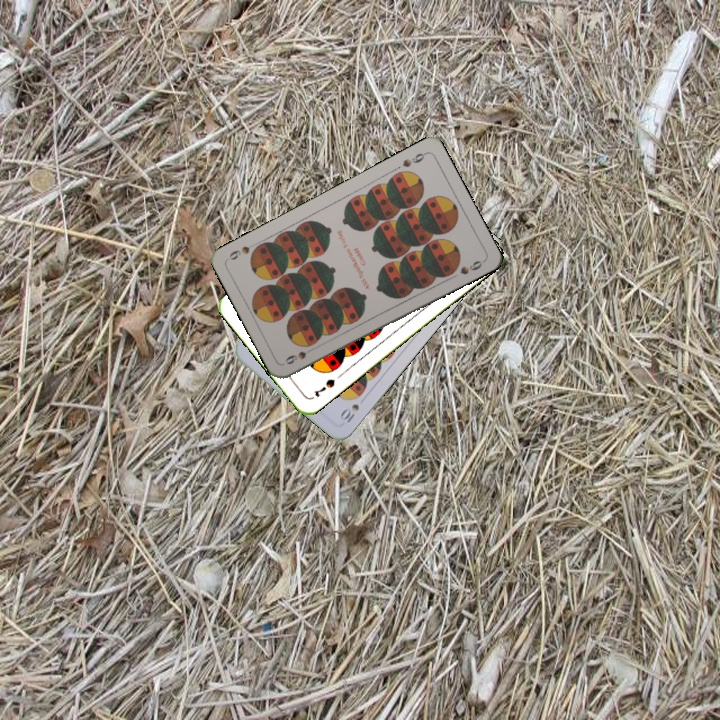S10: (336, 400, 362, 426)
S7: (310, 375, 338, 400)
S9: (281, 342, 319, 367), (398, 148, 429, 170)
